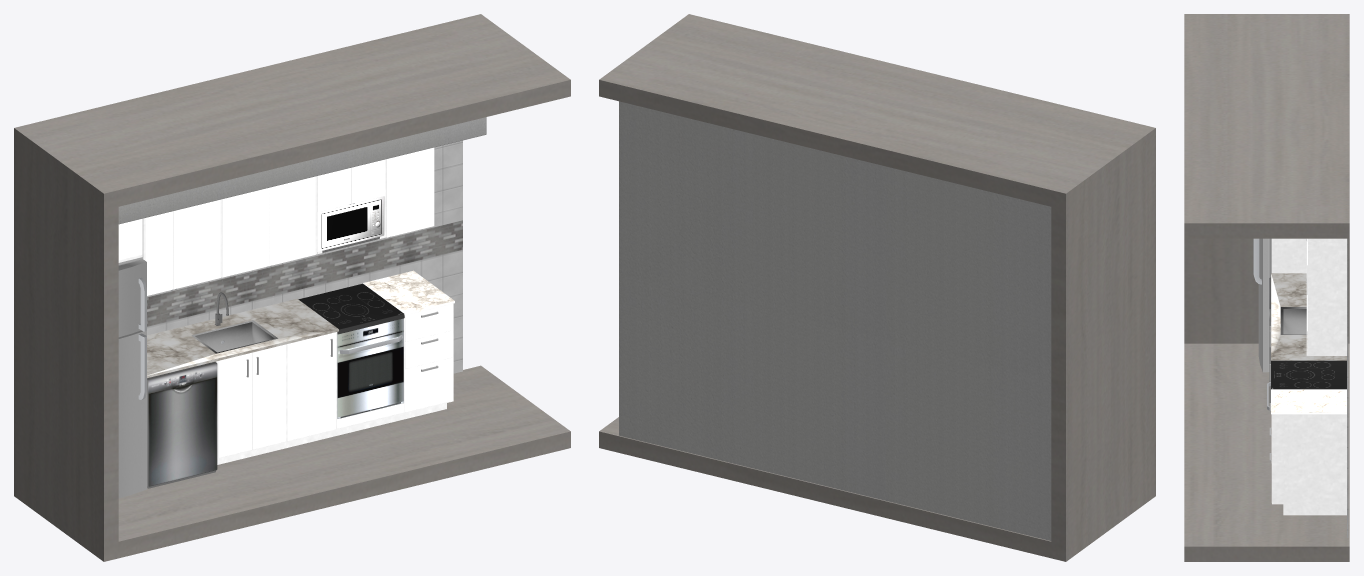
The picture shows the model from 3 angles, left to right: view 1: azimuth 30°, elevation 25°; view 2: azimuth 150°, elevation 25°; view 3: azimuth 270°, elevation 25°; orthographic projection. The views are drawn at different scales.
Visible parts, largest first — view 1: Base, Cabinet Doors, CAB2, CABINET1; view 2: Base; view 3: Base, CABINET1, CAB2, Cabinet Doors.
Boxes of the visible parts, <box> form: Base: <box>14,14,570,561</box>; Cabinet Doors: <box>118,147,452,457</box>; CAB2: <box>118,196,454,498</box>; CABINET1: <box>118,159,453,464</box>; Base: <box>599,14,1155,561</box>; Base: <box>1184,14,1349,561</box>; CABINET1: <box>1271,238,1346,515</box>; CAB2: <box>1253,238,1346,414</box>; Cabinet Doors: <box>1269,238,1307,502</box>.
Bounding box in the file's own units: 158 × 119 × 52.54.
4 materials, 4 textured.
